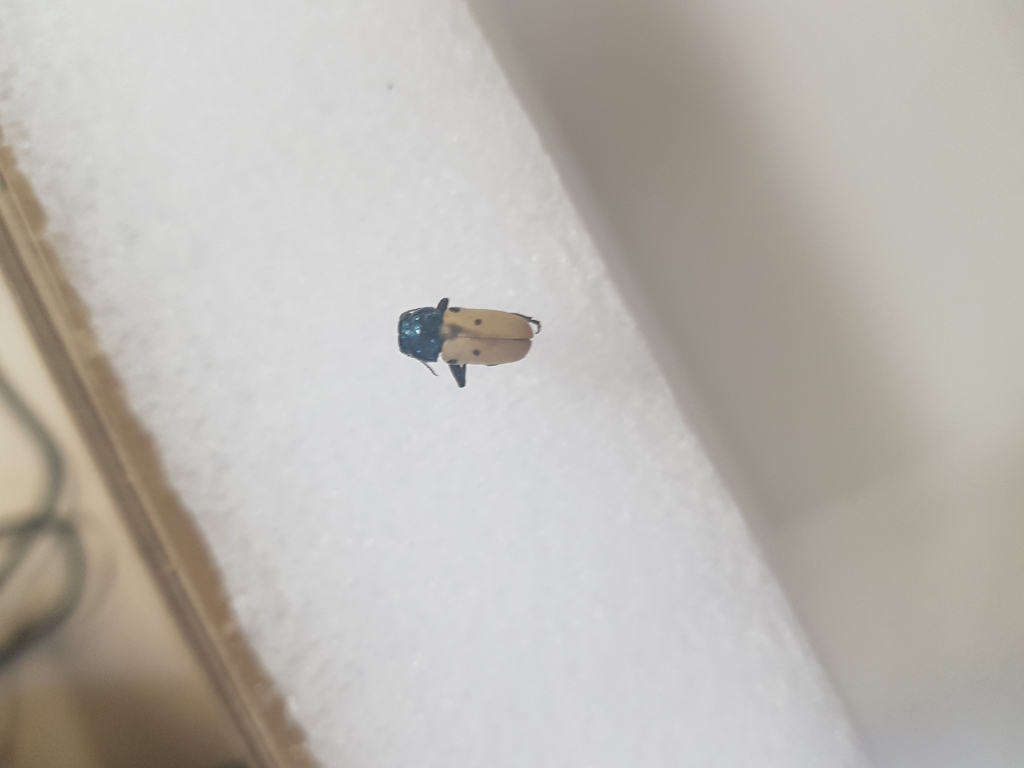Labidostomis_maculipennis: (397, 293, 545, 384)
